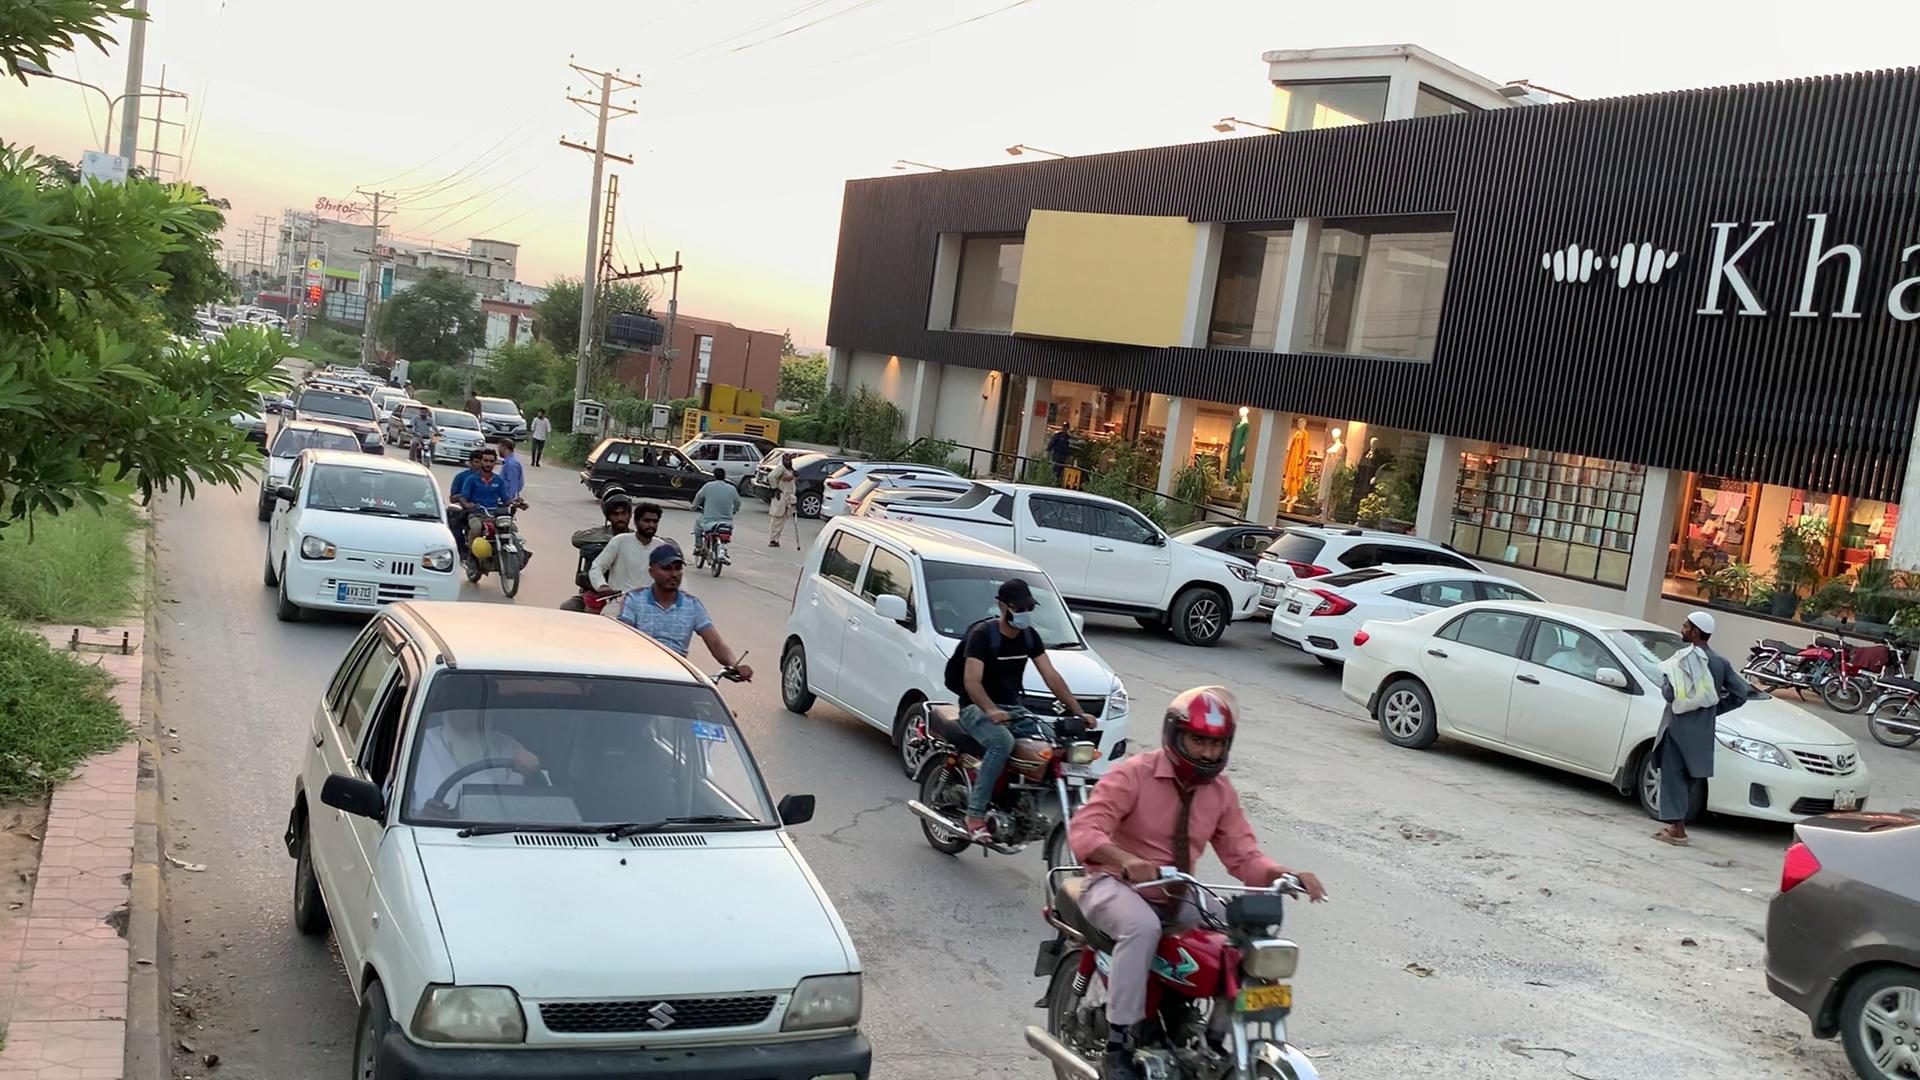windshield: (388, 644, 798, 847)
